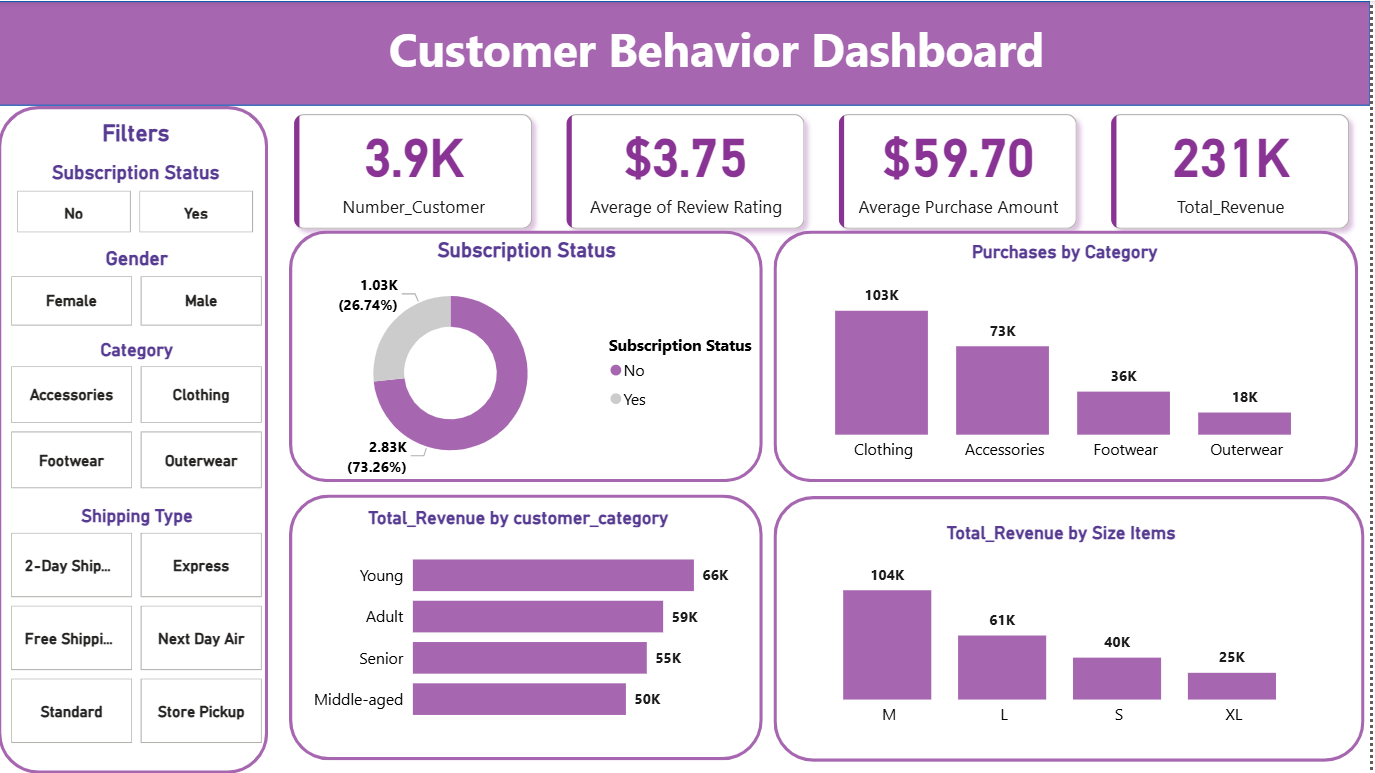

This screenshot's page, from the dashboard's own definition file:
{"tool":"powerbi","page":{"name":"Dashboard","canvas":[1280,720],"ordinal":0},"visuals":[{"type":"shape","box":[0,97.3,252,622.7],"z":0},{"type":"shape","box":[723.1,214.3,545.2,234.7],"z":1000,"group":"g1"},{"type":"cardVisual","fields":{"Data":["customer.Customer","Avg(customer.Review Rating)","Avg(customer.Purchase Amount (USD))","customer.Total_Revenue"]},"box":[259.5,87.5,1020.5,141.4],"z":1000},{"type":"shape","box":[0,0,1280,97.7],"z":2000},{"type":"textbox","box":[360.1,10.2,833.9,87.5],"z":3000},{"type":"shape","box":[271.2,214.3,441.7,234.7],"z":4000},{"type":"donutChart","title":"Subscription Status","fields":{"Category":["customer.Subscription Status"],"Y":["CountNonNull(customer.Customer ID)"]},"box":[268.2,221.6,449,227.4],"z":5000},{"type":"shape","box":[271.2,460.7,441.7,247.8],"z":6000},{"type":"clusteredColumnChart","title":" Purchases by Category","fields":{"Category":["customer.Category"],"Y":["customer.Total_Revenue"]},"box":[730,224.7,529.2,214.3],"z":7000,"group":"g1"},{"type":"group","id":"g1","title":"Group 1","box":[723.1,214.3,545.2,234.7],"z":7000},{"type":"advancedSlicerVisual","fields":{"Values":["customer.Subscription Status"]},"box":[13.1,150.2,231.8,71.4],"z":8000},{"type":"advancedSlicerVisual","fields":{"Values":["customer.Gender"]},"box":[7.3,228.9,244.9,78.7],"z":9000},{"type":"advancedSlicerVisual","fields":{"Values":["customer.Category"]},"box":[7.3,314.9,244.9,145.8],"z":10000},{"type":"advancedSlicerVisual","fields":{"Values":["customer.Shipping Type"]},"box":[6.7,470.7,245.3,228],"z":11000},{"type":"actionButton","title":"Filters","box":[29.2,110.8,198.3,39.4],"z":12000},{"type":"shape","box":[723.1,462.1,551.1,247.8],"z":12500},{"type":"clusteredBarChart","fields":{"Category":["customer.customer_category"],"Y":["customer.Total_Revenue"]},"box":[282.8,470.9,405.3,215.8],"z":13000},{"type":"columnChart","title":"Total_Revenue by Size Items","fields":{"Category":["customer.Size"],"Y":["customer.Total_Revenue"]},"box":[740.6,485.5,503,199.7],"z":14000}]}

Visuals, with their boxes in screenshot pixels (x1, y1, x2, y2), scaled from the page's 1280x720 canvas onto the 1375x773 screenshot:
shape: locate(0, 104, 271, 772)
shape: locate(777, 230, 1362, 482)
cardVisual - customer.Customer x Avg(customer.Review Rating): locate(279, 94, 1374, 246)
shape: locate(0, 0, 1374, 105)
textbox: locate(387, 11, 1283, 105)
shape: locate(291, 230, 766, 482)
"Subscription Status" donutChart: locate(288, 238, 770, 482)
shape: locate(291, 495, 766, 761)
" Purchases by Category" clusteredColumnChart: locate(784, 241, 1353, 471)
"Group 1" group: locate(777, 230, 1362, 482)
advancedSlicerVisual - customer.Subscription Status: locate(14, 161, 263, 238)
advancedSlicerVisual - customer.Gender: locate(8, 246, 271, 330)
advancedSlicerVisual - customer.Category: locate(8, 338, 271, 495)
advancedSlicerVisual - customer.Shipping Type: locate(7, 505, 271, 750)
"Filters" actionButton: locate(31, 119, 244, 161)
shape: locate(777, 496, 1369, 762)
clusteredBarChart - customer.customer_category x customer.Total_Revenue: locate(304, 506, 739, 737)
"Total_Revenue by Size Items" columnChart: locate(796, 521, 1336, 736)
